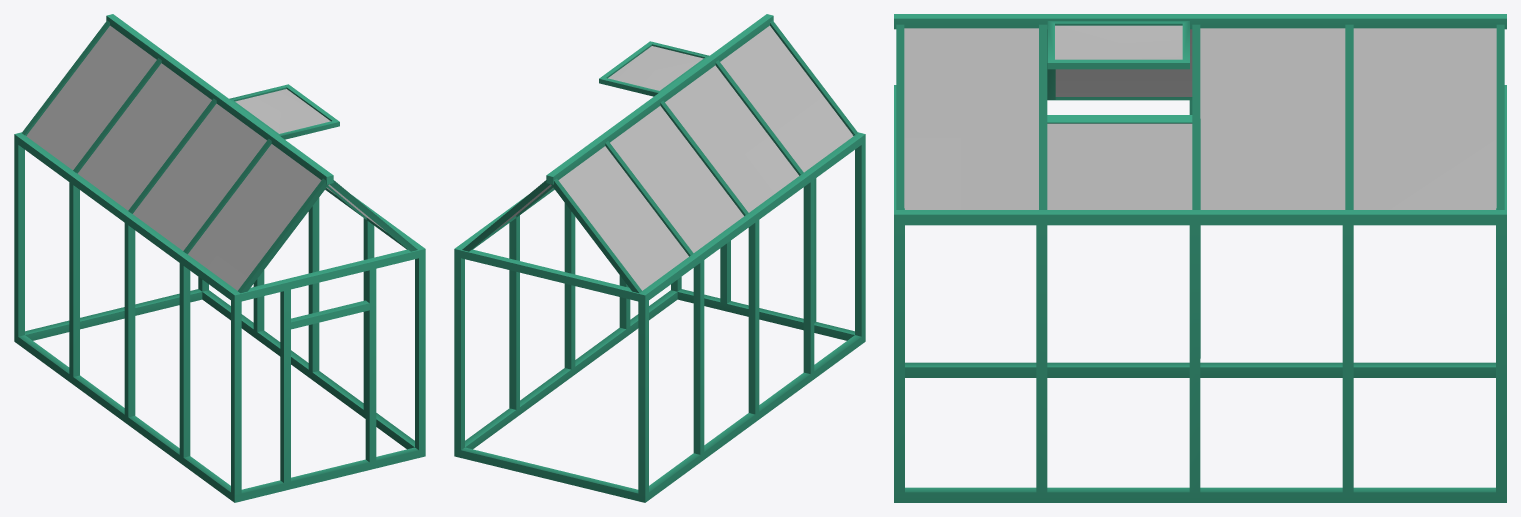
The model's file is greenhouse_003.glb.
The picture shows the model from 3 angles, left to right: view 1: azimuth 30°, elevation 25°; view 2: azimuth 150°, elevation 25°; view 3: azimuth 270°, elevation 25°; orthographic projection. The views are drawn at different scales.
Parts seen in each view (by area): view 1: greenhouse_003; view 2: greenhouse_003; view 3: greenhouse_003.
Part boxes in pixels (x1,y1,x2,y2): greenhouse_003: (14,14,425,502); greenhouse_003: (454,14,865,502); greenhouse_003: (894,14,1506,502).
Bounding box in the file's own units: 2.31 × 3.5 × 4.61.
1 material, 1 textured.
